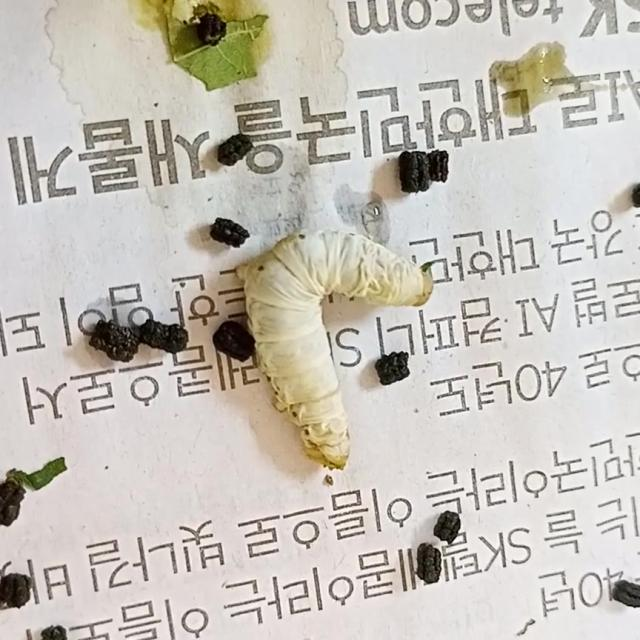Grasserie: (187, 190, 456, 496)
